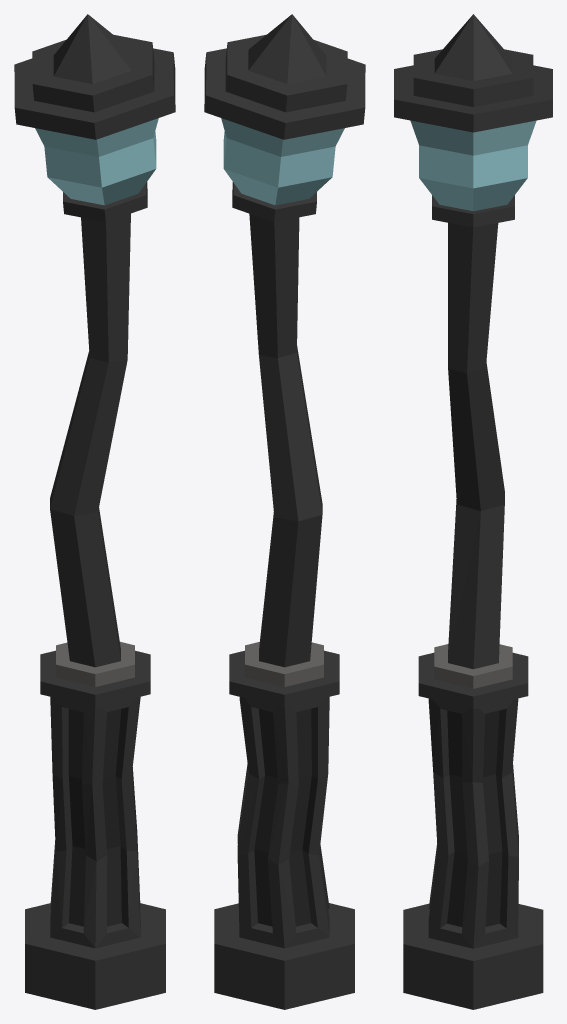
Rendered from Street_light_A_01.FBX.
The picture shows the model from 3 angles, left to right: view 1: azimuth 30°, elevation 25°; view 2: azimuth 150°, elevation 25°; view 3: azimuth 270°, elevation 25°; orthographic projection.
Visible parts, largest first — view 1: Street_light_A_01; view 2: Street_light_A_01; view 3: Street_light_A_01.
Part boxes in pixels (x1,y1,x2,y2): Street_light_A_01: [14, 14, 175, 1009]; Street_light_A_01: [204, 14, 365, 1009]; Street_light_A_01: [394, 14, 552, 1009].
Bounding box in the file's own units: 0.6845 × 3.92 × 0.5896.
